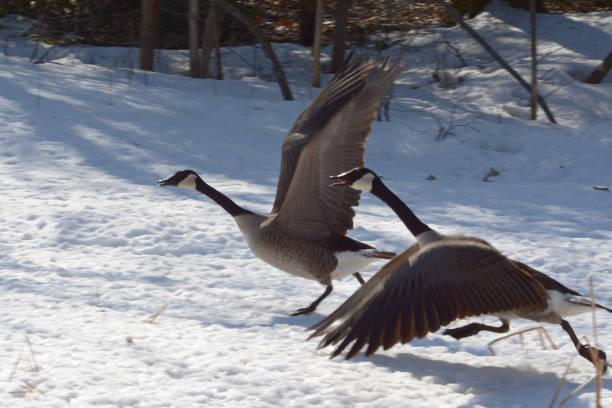Canadian-Goose: (318, 163, 612, 378), (153, 61, 399, 311)
